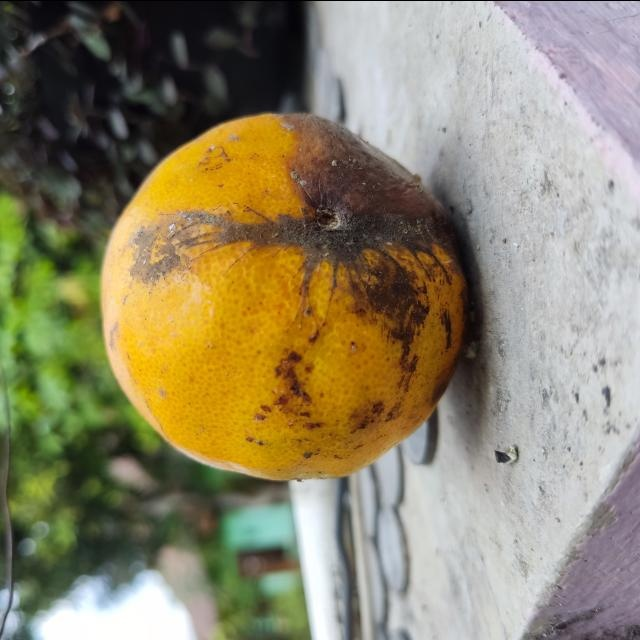agrume: (99, 109, 465, 483)
